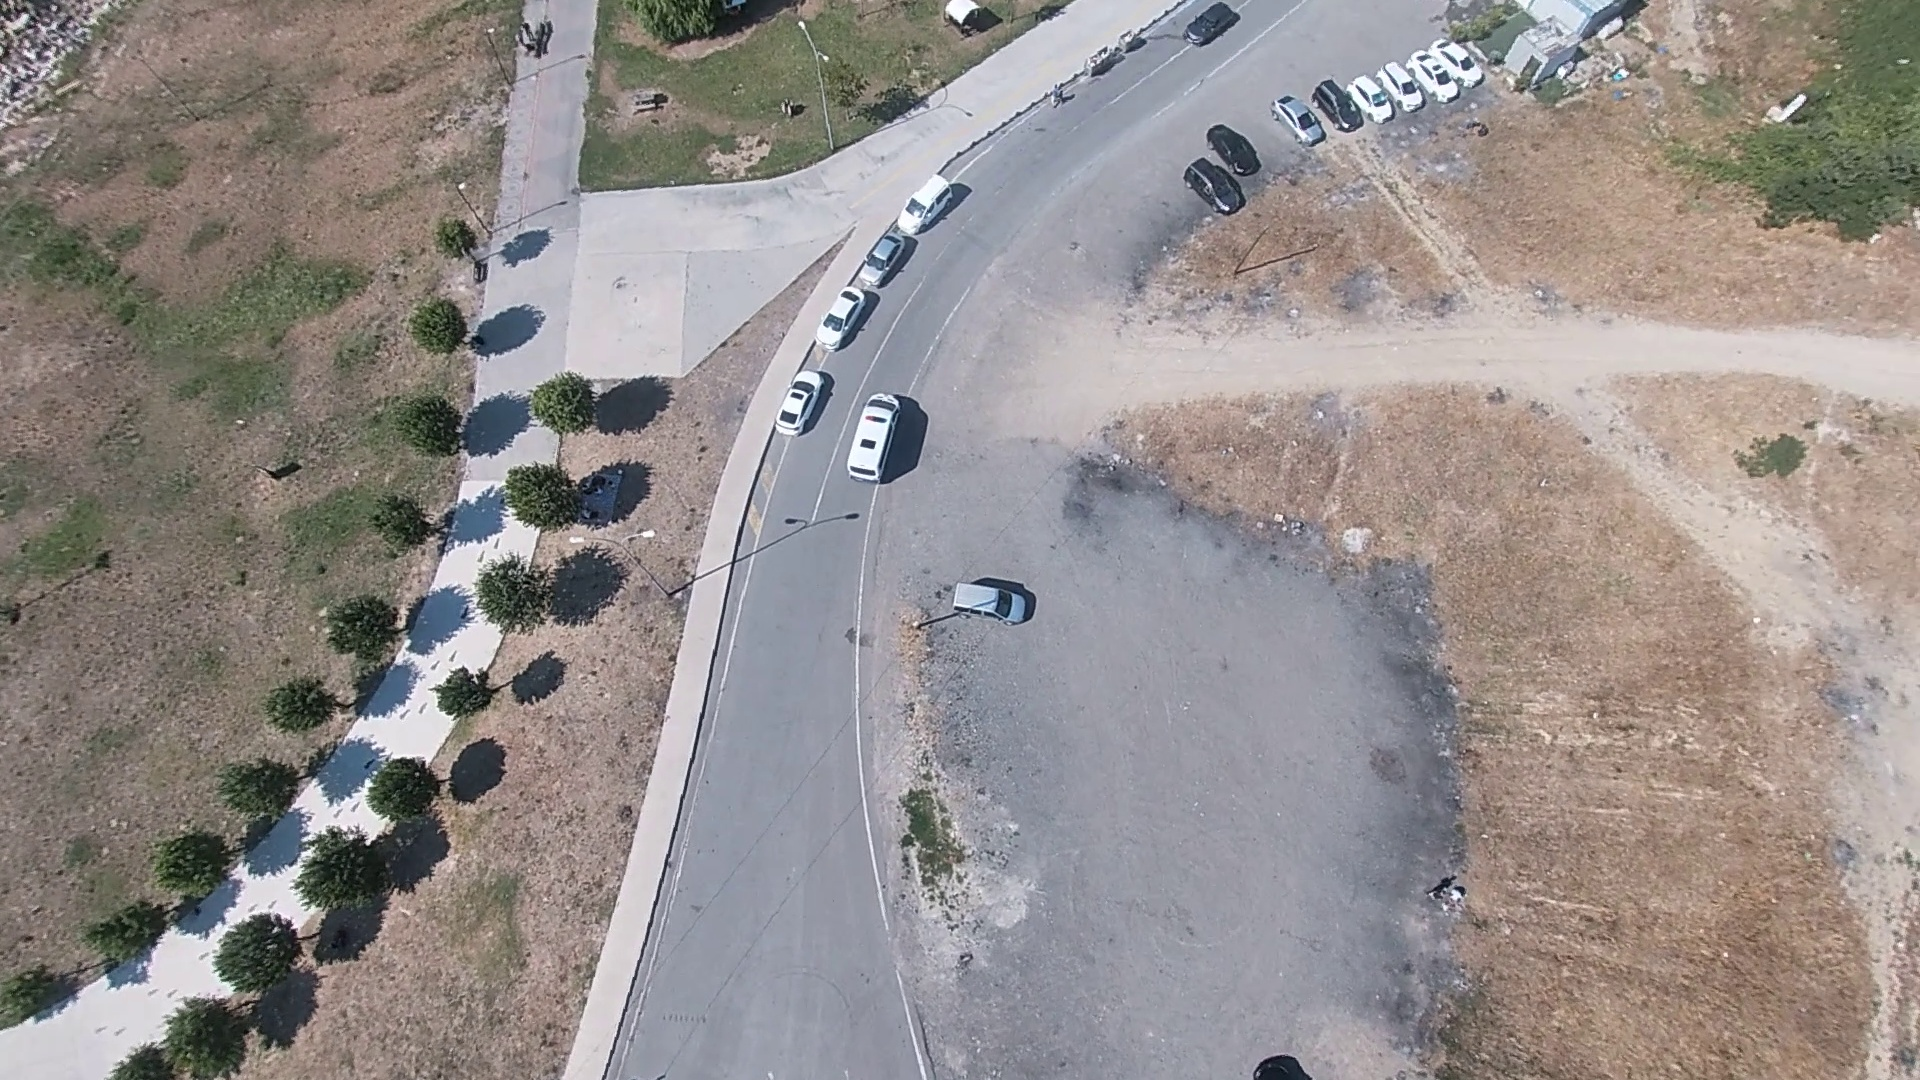arac: (789, 166, 961, 418), (844, 384, 900, 487), (775, 363, 833, 444), (947, 577, 1040, 626), (1275, 96, 1324, 144), (1188, 5, 1236, 46), (262, 456, 302, 481)
insan: (1422, 879, 1464, 907)
